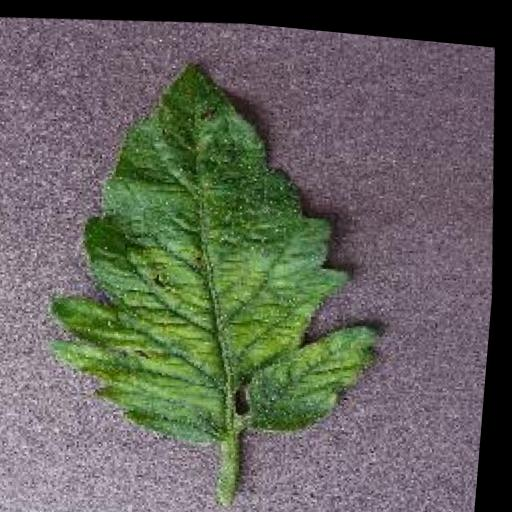Mosaic Virus: (25, 28, 415, 461)
